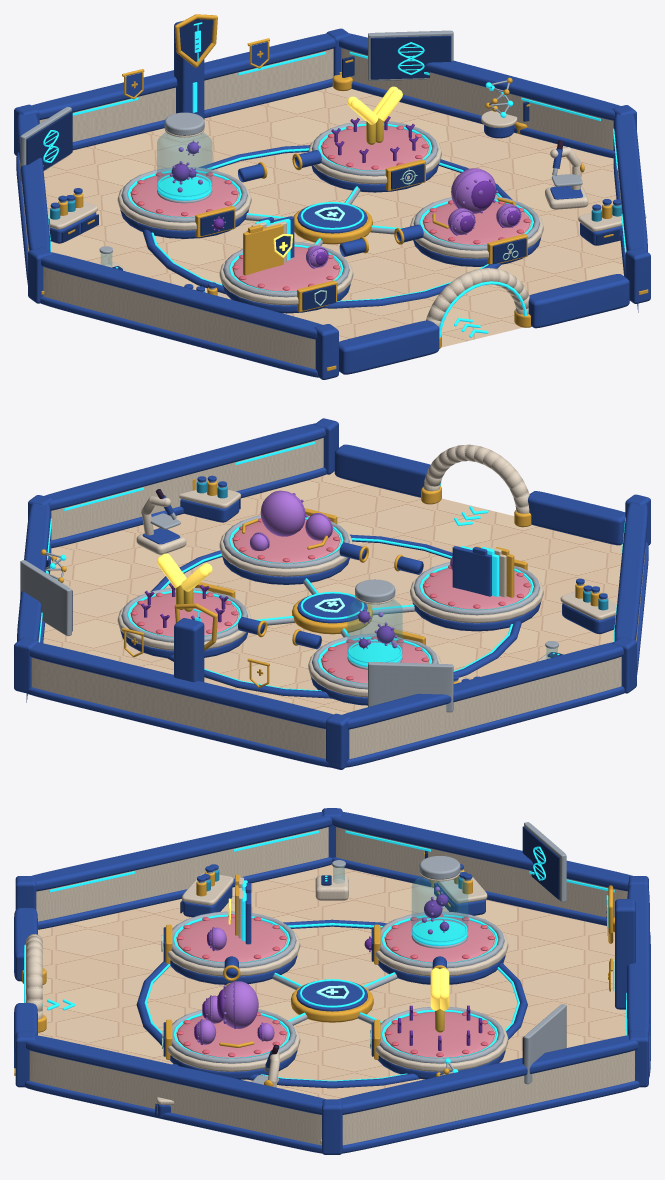
Rendered from vaccine.glb.
3 renders of one model, top to bottom at view 1: azimuth 30°, elevation 25°; view 2: azimuth 150°, elevation 25°; view 3: azimuth 270°, elevation 25°, orthographic. The views are drawn at different scales.
Visible parts, largest first — view 1: Piso pintado, pavilionblue, ivorylab, pinkmatrix, deepblue, silverlab, goldlab, cyan, bottle_glass, purple, violet2, yellow (+2 smaller); view 2: pavilionblue, Piso pintado, ivorylab, silverlab, pinkmatrix, cyan, goldlab, bottle_glass, violet2, salmon, purple, yellow; view 3: Piso pintado, pavilionblue, ivorylab, pinkmatrix, silverlab, cyan, goldlab, bottle_glass, violet2, deepblue, purple, salmon (+2 smaller).
Boxes of the visible parts, bbox=[...] form: Piso pintado: bbox=[43, 86, 630, 372]; pavilionblue: bbox=[14, 20, 650, 379]; ivorylab: bbox=[19, 48, 646, 369]; pinkmatrix: bbox=[131, 126, 530, 291]; deepblue: bbox=[26, 19, 622, 310]; silverlab: bbox=[20, 30, 620, 297]; goldlab: bbox=[41, 14, 648, 370]; cyan: bbox=[43, 22, 626, 337]; bottle_glass: bbox=[101, 132, 211, 266]; purple: bbox=[171, 116, 519, 265]; violet2: bbox=[306, 168, 519, 267]; yellow: bbox=[273, 86, 402, 257]; pavilionblue: bbox=[14, 418, 650, 769]; Piso pintado: bbox=[43, 472, 622, 714]; ivorylab: bbox=[31, 438, 645, 758]; silverlab: bbox=[20, 481, 606, 712]; pinkmatrix: bbox=[131, 519, 530, 683]; cyan: bbox=[38, 441, 625, 691]; goldlab: bbox=[40, 479, 600, 687]; bottle_glass: bbox=[347, 599, 557, 664]; violet2: bbox=[250, 491, 452, 570]; salmon: bbox=[130, 518, 530, 680]; purple: bbox=[141, 583, 394, 648]; yellow: bbox=[157, 553, 212, 591]; Piso pintado: bbox=[38, 864, 626, 1099]; pavilionblue: bbox=[14, 808, 650, 1154]; ivorylab: bbox=[26, 827, 634, 1145]; pinkmatrix: bbox=[177, 916, 494, 1057]; silverlab: bbox=[171, 822, 566, 1084]; cyan: bbox=[24, 830, 627, 1081]; goldlab: bbox=[14, 852, 614, 1143]; bottle_glass: bbox=[333, 867, 467, 942]; violet2: bbox=[197, 927, 274, 1044]; deepblue: bbox=[155, 826, 606, 1116]; purple: bbox=[194, 894, 482, 1050]; salmon: bbox=[176, 914, 494, 1056].
Bounding box in the file's own units: 29.67 × 6.03 × 26.62.
19 materials, 19 textured.
